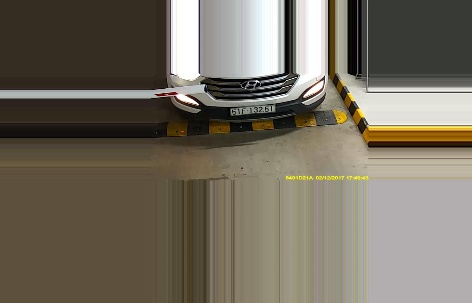plate: (225, 105, 277, 117)
